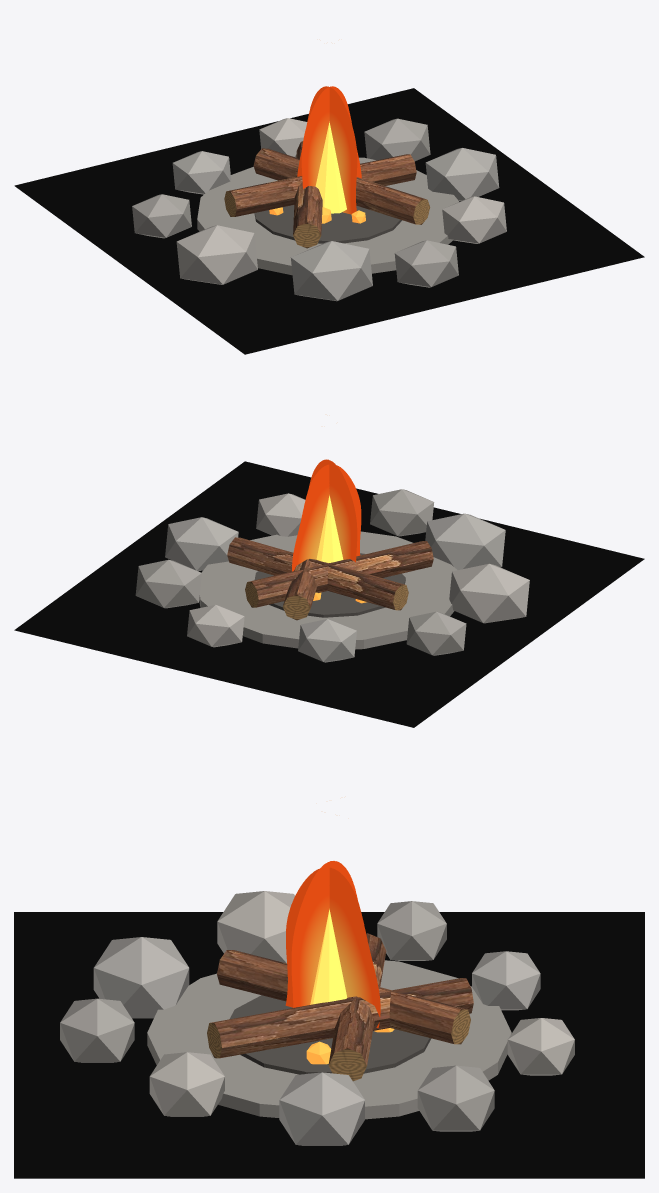
File: campfire.glb
3 views of the same model, one above another, from view 1: azimuth 30°, elevation 25°; view 2: azimuth 150°, elevation 25°; view 3: azimuth 270°, elevation 25° (orthographic). The views are drawn at different scales.
Parts seen in each view (by area): view 1: ContactShadow, ash, ringStone.006, ringStone.005, log.001, log, ringStone, emberBed, ringStone.008, ringStone.007, flameCard, ringStone.001 (+6 smaller); view 2: ContactShadow, ash, log.001, ringStone.005, log.002, ringStone.006, ringStone, flameCard.002, ringStone.001, ringStone.007, ringStone.004, ringStone.003 (+6 smaller); view 3: ContactShadow, ash, log, ringStone.006, log.002, ringStone, flameCard.002, ringStone.001, emberBed, ringStone.005, ringStone.008, ringStone.007 (+6 smaller).
Boxes of the visible parts, x1,y1,x2,y2 form: ContactShadow: (14, 88, 644, 354); ash: (197, 157, 459, 275); ringStone.006: (290, 241, 372, 301); ringStone.005: (176, 225, 257, 284); log.001: (224, 154, 416, 216); log: (253, 148, 430, 224); ringStone: (425, 148, 499, 200); emberBed: (254, 205, 401, 243); ringStone.008: (442, 196, 506, 243); ringStone.007: (394, 240, 458, 287); flameCard: (297, 86, 357, 214); ringStone.001: (364, 118, 430, 161); ContactShadow: (14, 461, 644, 727); ash: (199, 531, 457, 649); log.001: (227, 537, 408, 610); ringStone.005: (449, 563, 529, 623); log.002: (245, 541, 433, 607); ringStone.006: (425, 513, 505, 569); ringStone: (165, 517, 238, 571); flameCard.002: (292, 464, 361, 571); ringStone.001: (135, 559, 201, 608); ringStone.007: (370, 489, 434, 536); ringStone.004: (406, 611, 466, 655); ringStone.003: (298, 619, 356, 662); ContactShadow: (14, 912, 644, 1178); ash: (147, 960, 511, 1119); log: (207, 978, 473, 1058); ringStone.006: (93, 937, 189, 1018); log.002: (217, 950, 470, 1044); ringStone: (279, 1072, 364, 1145); flameCard.002: (285, 867, 380, 1028); ringStone.001: (417, 1065, 494, 1131); emberBed: (229, 995, 431, 1074); ringStone.005: (217, 891, 294, 963); ringStone.008: (149, 1052, 224, 1116); ringStone.007: (60, 998, 134, 1062).
Size of the model in its own units: 1.8 by 0.832 by 1.8.
11 materials, 4 textured.
